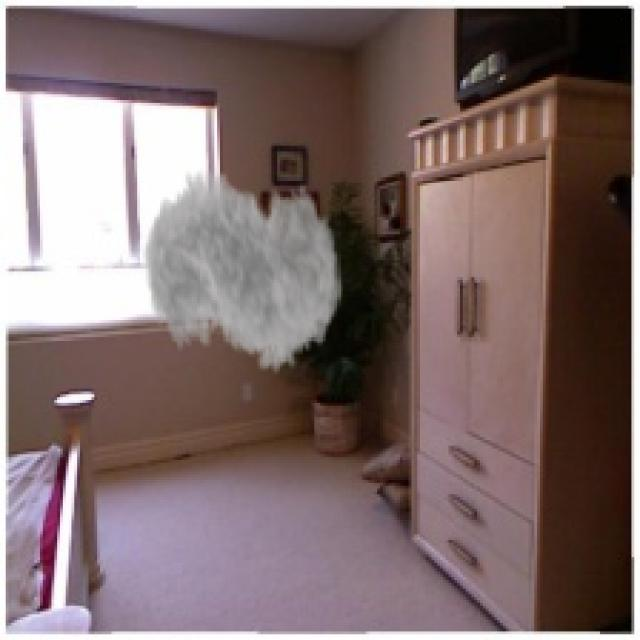smoke: (143, 143, 343, 391)
